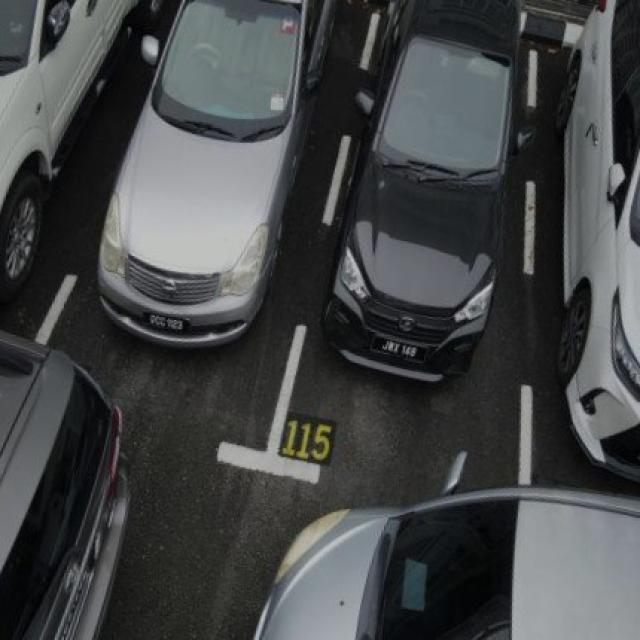Legalparking: (320, 0, 535, 406), (82, 0, 293, 350)
illegalparking: (287, 469, 640, 640), (7, 272, 130, 640)
